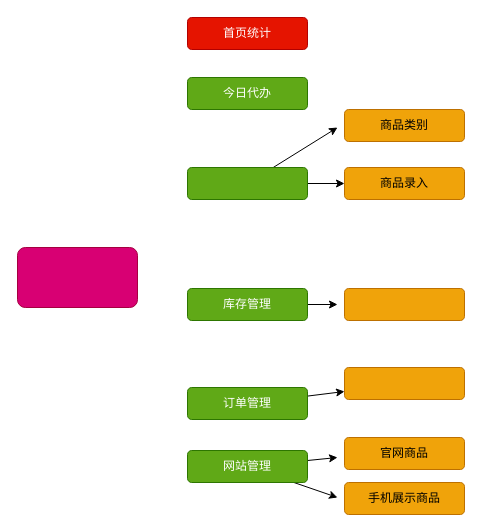
The diagram is 482 pixels wide and 532 high, and some of its shapes have lost their labels. The shapes that lost their labels are listed below. From the top down, each one's centre as x and y in pixels, then its label:
the point at 247,183: 商品管理
the point at 77,277: 后台管理系统
the point at 404,304: 库存统计
the point at 404,383: 销售录入
